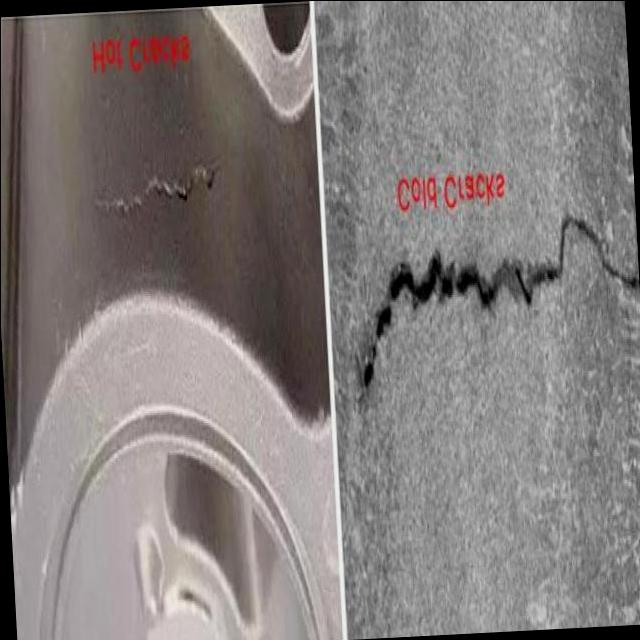defect: (358, 210, 637, 410), (80, 148, 224, 217)
